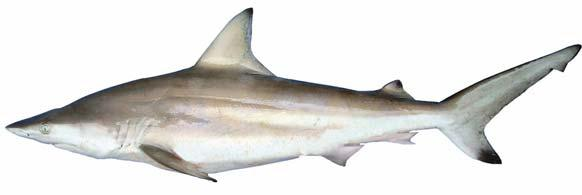fish: (6, 7, 582, 184)
